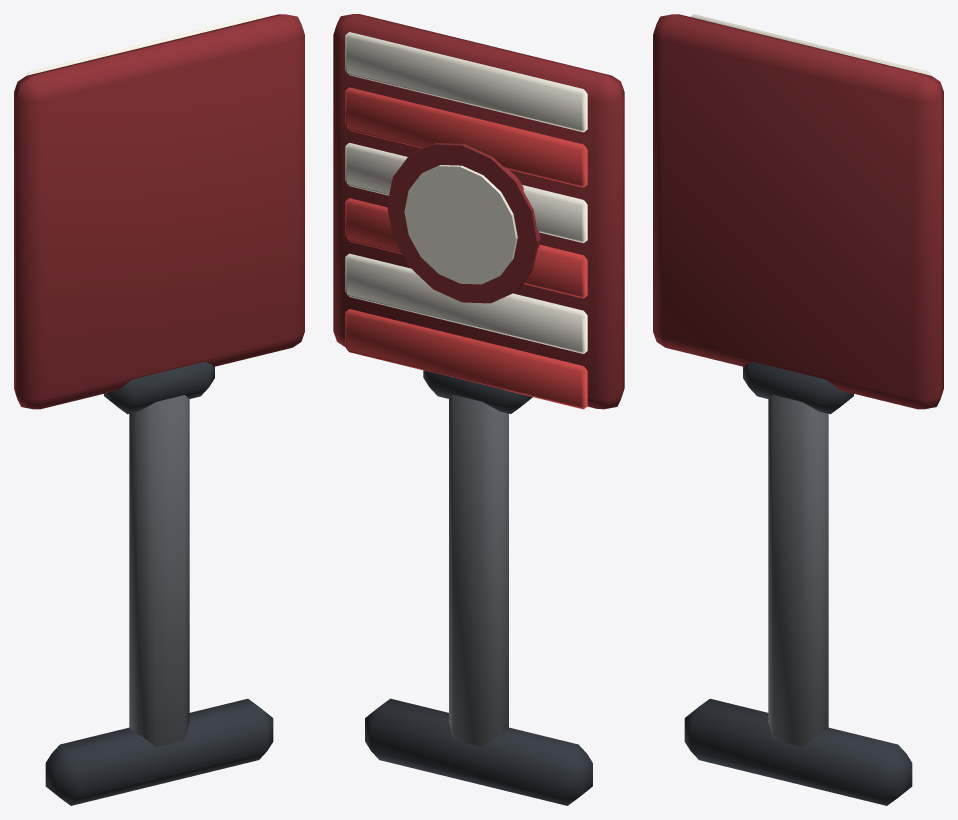
File: stop-board.glb
The picture shows the model from 3 angles, left to right: view 1: azimuth 30°, elevation 25°; view 2: azimuth 150°, elevation 25°; view 3: azimuth 330°, elevation 25°; orthographic projection.
Visible parts, largest first — view 1: stop-board; view 2: stop-board; view 3: stop-board.
Part boxes in pixels (left/top/right/bottom): stop-board: left=14, top=14, right=304, bottom=805; stop-board: left=333, top=14, right=624, bottom=805; stop-board: left=653, top=14, right=943, bottom=805.
Size of the model in its own units: 0.9 by 2.2 by 0.177.
